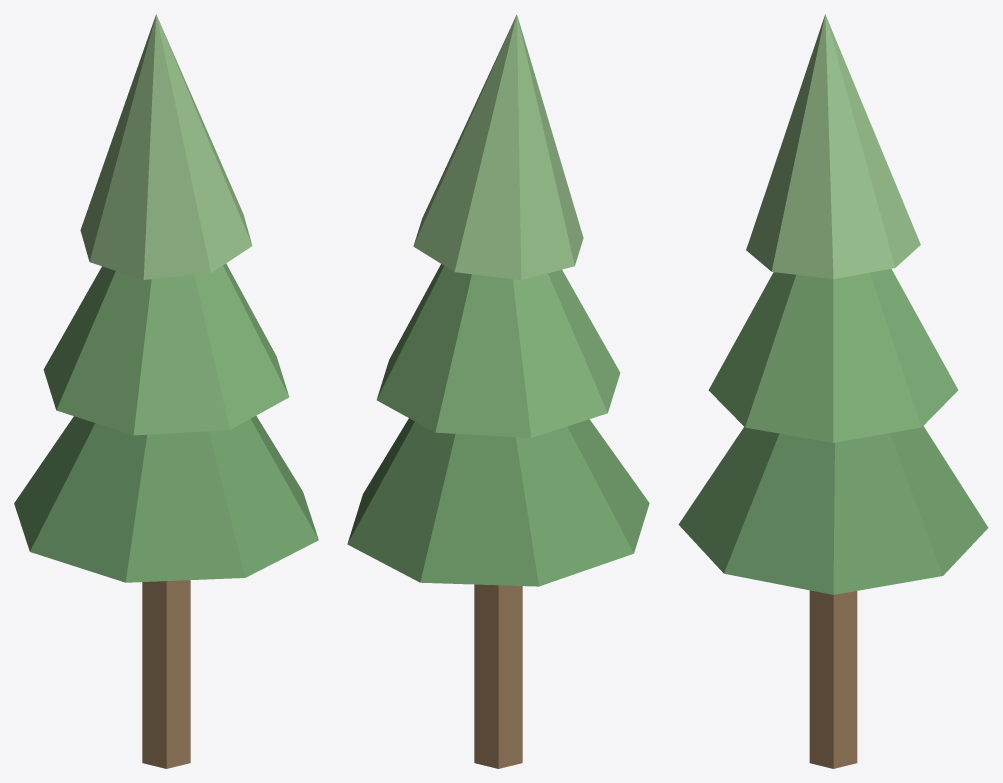
File: animprop_pine_03.glb
3 views of the same model, side by side, from view 1: azimuth 30°, elevation 25°; view 2: azimuth 150°, elevation 25°; view 3: azimuth 270°, elevation 25° (orthographic).
Parts seen in each view (by area): view 1: animprop; view 2: animprop; view 3: animprop.
Part boxes in pixels (x1=…): animprop: x1=14, y1=14, x2=318, y2=768; animprop: x1=347, y1=14, x2=649, y2=768; animprop: x1=678, y1=14, x2=988, y2=768.
Size of the model in its own units: 1.24 by 3.25 by 1.24.
